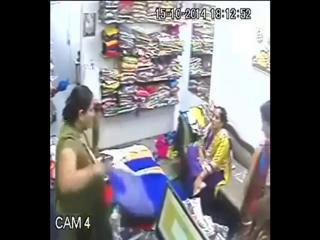Normal: (54, 84, 112, 240), (125, 184, 208, 240)
